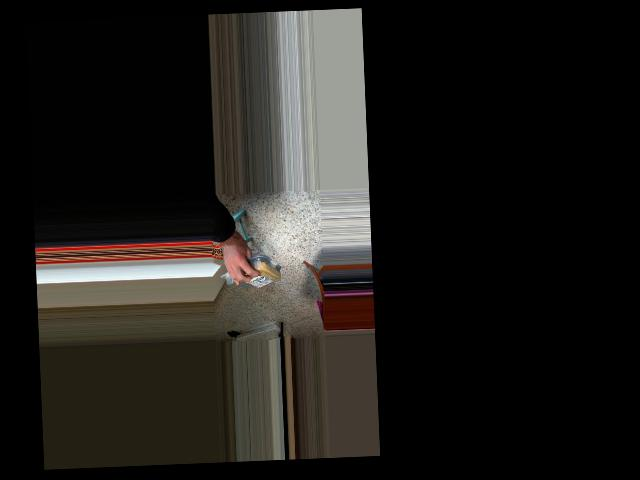cheese: (237, 258, 283, 289)
